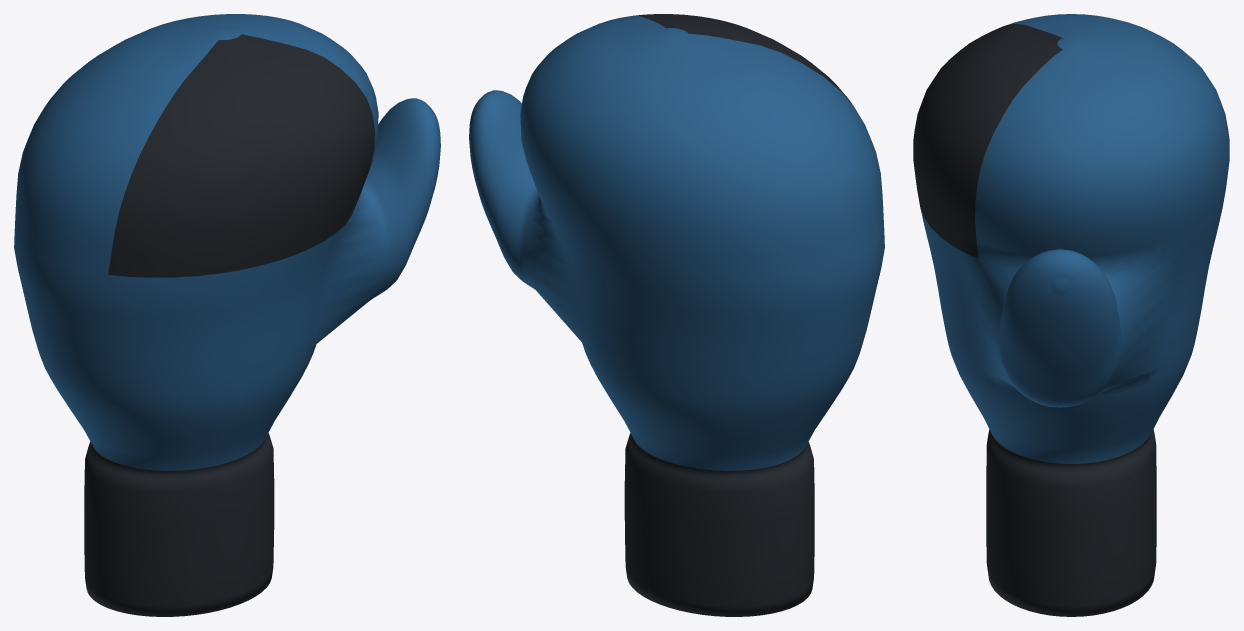
The model's file is A-NEW-20261027-BOXING_GLOVE-001_LOD1_R5.glb.
3 renders of one model, left to right at view 1: azimuth 30°, elevation 25°; view 2: azimuth 150°, elevation 25°; view 3: azimuth 270°, elevation 25°, orthographic. The views are drawn at different scales.
Visible parts, largest first — view 1: original padded fist curved thumb and open wrist cuff; view 2: original padded fist curved thumb and open wrist cuff; view 3: original padded fist curved thumb and open wrist cuff.
Boxes of the visible parts, x1=… form: original padded fist curved thumb and open wrist cuff: x1=14, y1=14, x2=440, y2=616; original padded fist curved thumb and open wrist cuff: x1=469, y1=14, x2=884, y2=616; original padded fist curved thumb and open wrist cuff: x1=913, y1=14, x2=1229, y2=616.
Bounding box in the file's own units: 0.1691 × 0.2176 × 0.1121.
